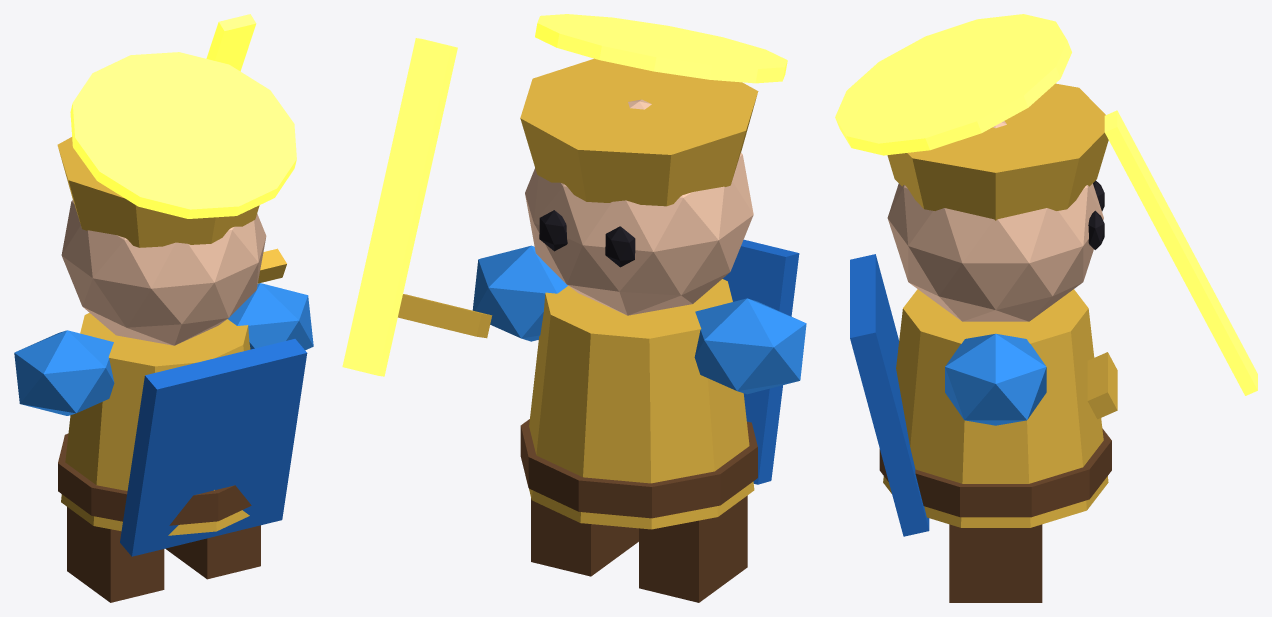
File: unit-hero.glb
3 views of the same model, side by side, from view 1: azimuth 30°, elevation 25°; view 2: azimuth 150°, elevation 25°; view 3: azimuth 270°, elevation 25° (orthographic). The views are drawn at different scales.
Parts seen in each view (by area): view 1: Unit_Hero; view 2: Unit_Hero; view 3: Unit_Hero.
Boxes of the visible parts, x1,y1,x2,y2 form: Unit_Hero: (14,14,313,602); Unit_Hero: (342,14,806,602); Unit_Hero: (835,14,1257,602).
Size of the model in its own units: 1.36 by 2.05 by 1.5.
